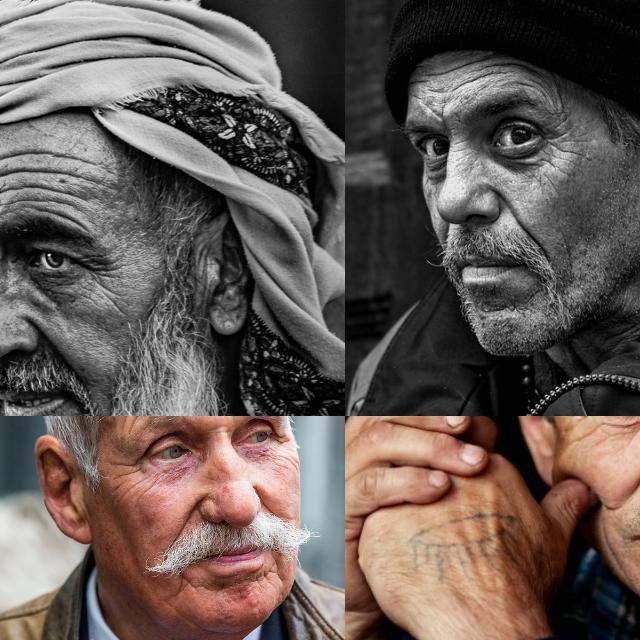bunny_line: (452, 136, 468, 162)
chin: (250, 572, 270, 598), (484, 300, 516, 316)
crows_feet: (82, 253, 116, 289), (110, 456, 144, 490), (545, 126, 575, 160), (274, 436, 298, 474)
forehead: (0, 171, 76, 216), (0, 141, 74, 167), (472, 53, 504, 77), (426, 62, 462, 80), (518, 76, 548, 94)
frown_line: (436, 103, 450, 131), (208, 420, 232, 436)
gummy_smile: (28, 318, 72, 366), (500, 190, 532, 232), (251, 488, 281, 524), (177, 501, 200, 541), (618, 462, 640, 497)
masseter: (600, 526, 626, 566)
sad_smile: (268, 550, 286, 588), (172, 569, 196, 597)
